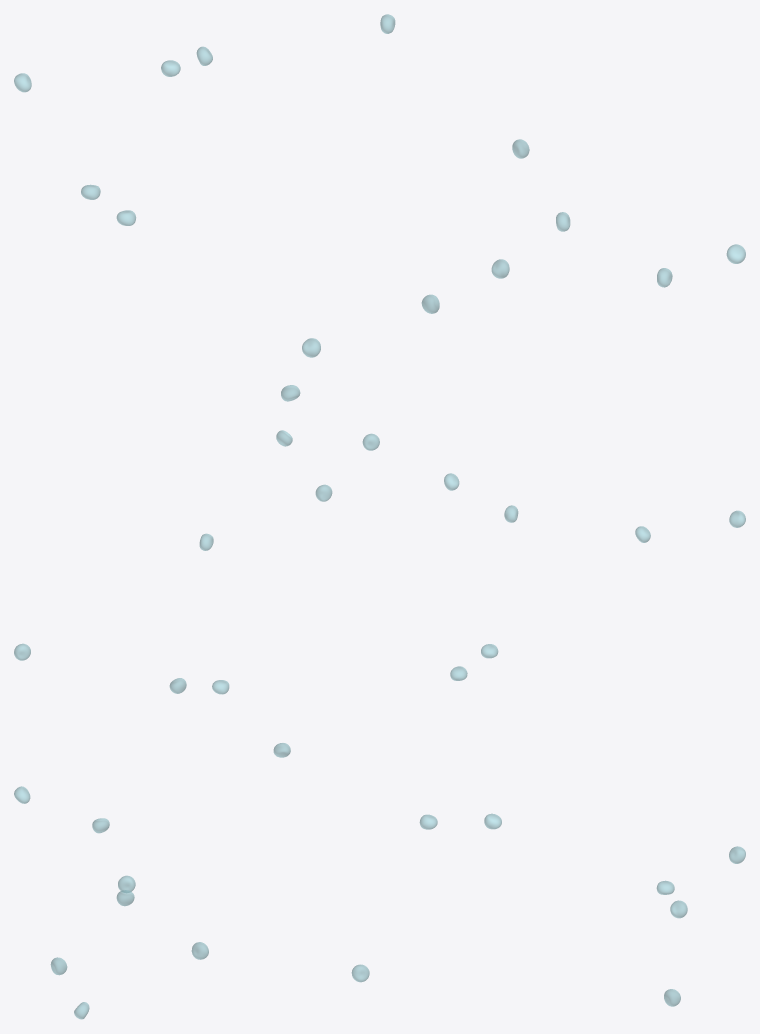
Rendered from VakolaKecil_Solo.glb.
3 views of the same model, one above another, from view 1: azimuth 30°, elevation 25°; view 2: azimuth 150°, elevation 25°; view 3: azimuth 270°, elevation 25° (orthographic). The views are drawn at different scales.
Size of the model in its own units: 1.41 by 0.1101 by 1.98.
